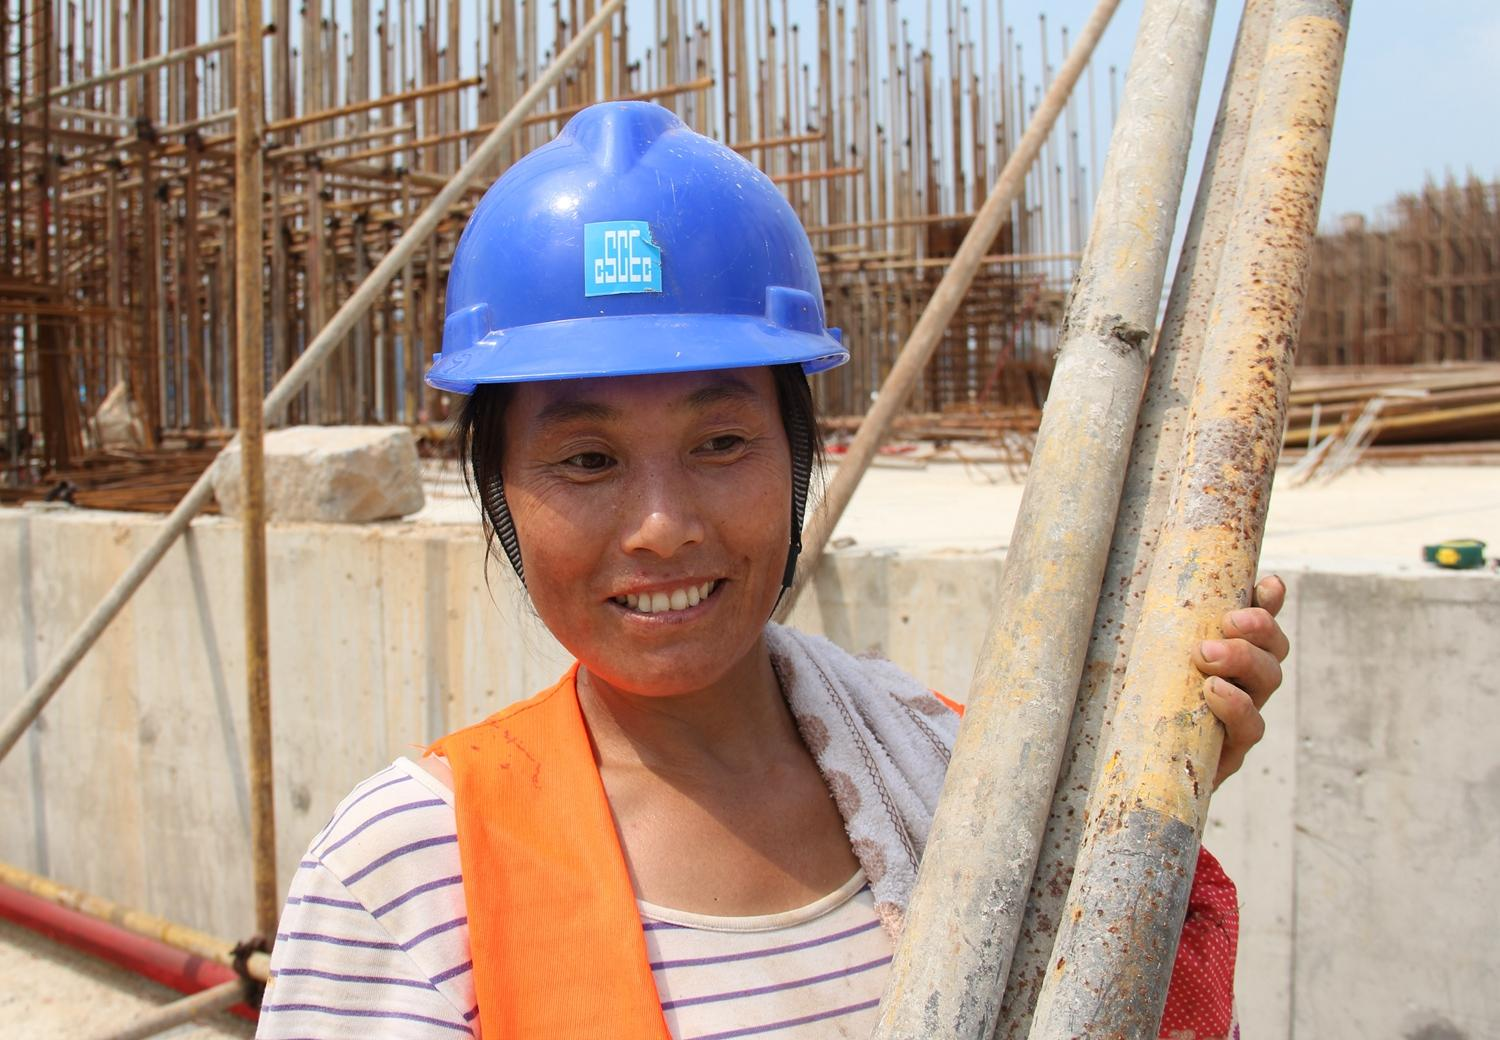helmet: (435, 103, 851, 385)
